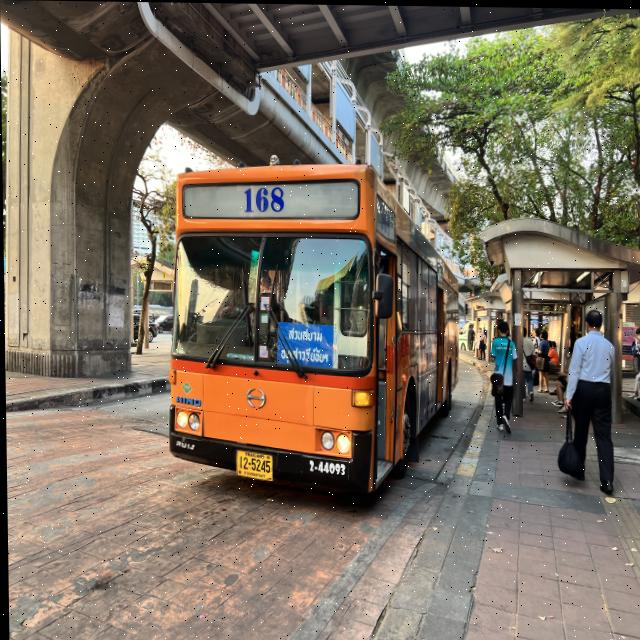BMTA-bus: (165, 164, 457, 495)
Bus Line Number: (235, 183, 294, 216)
Bus Side Number: (302, 453, 349, 479)
Destination Sign: (278, 321, 333, 369)
